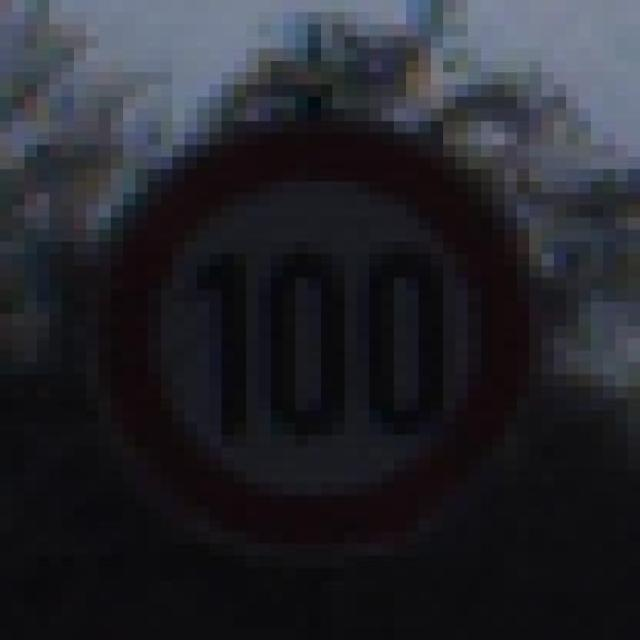forb_speed_over_100: (105, 122, 522, 558)
